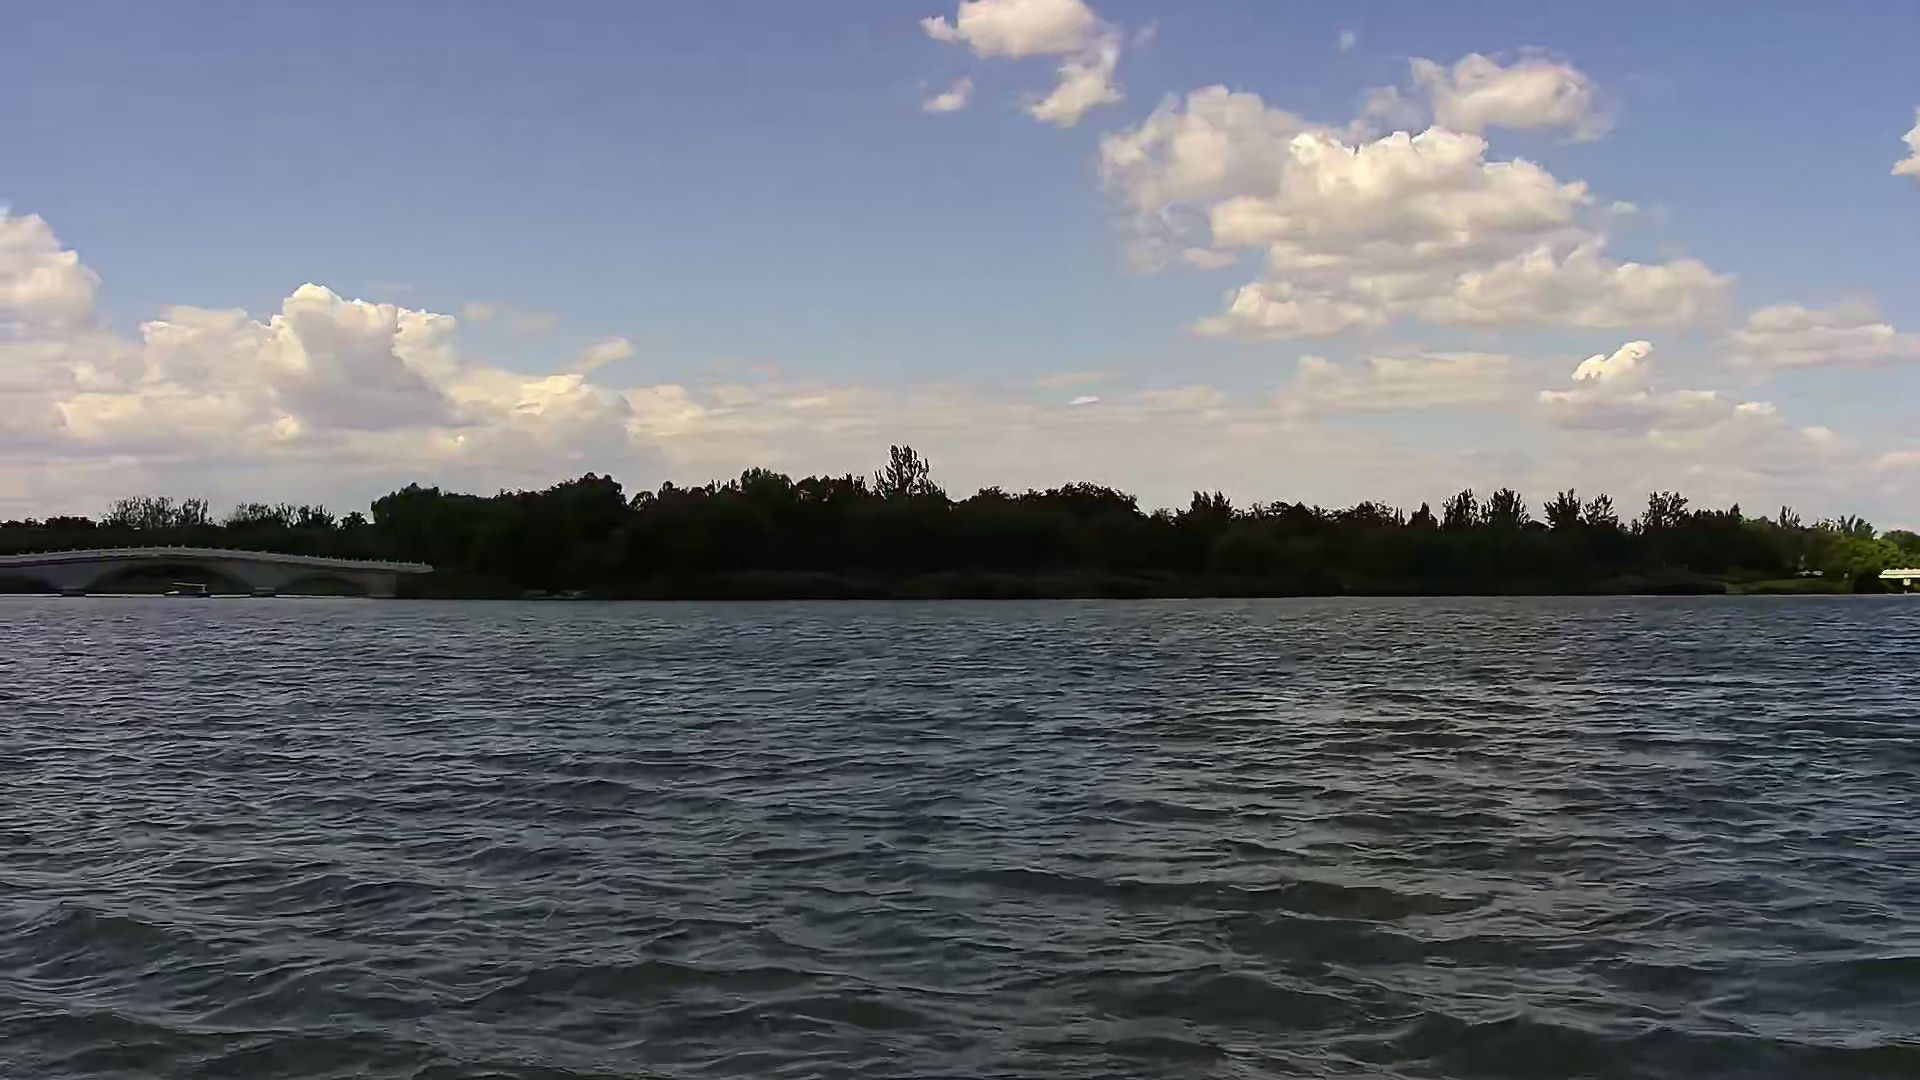boat: (160, 579, 223, 603)
bridge: (1, 545, 440, 603), (1876, 563, 1920, 597)
